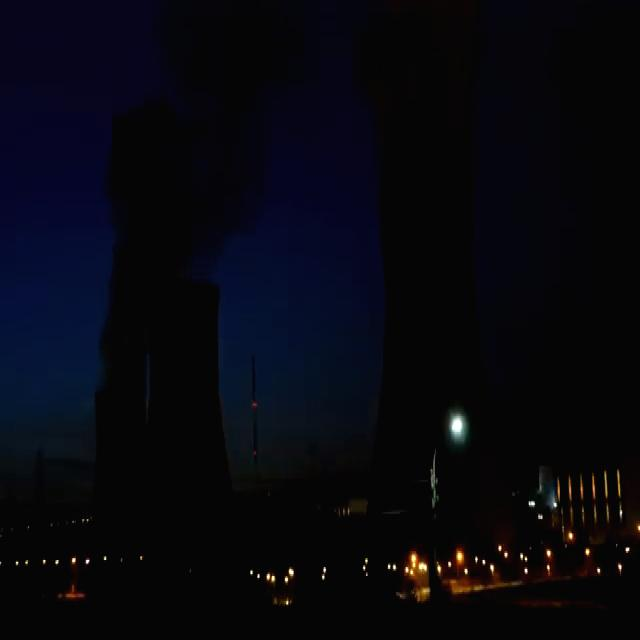smoke: (107, 23, 263, 398)
